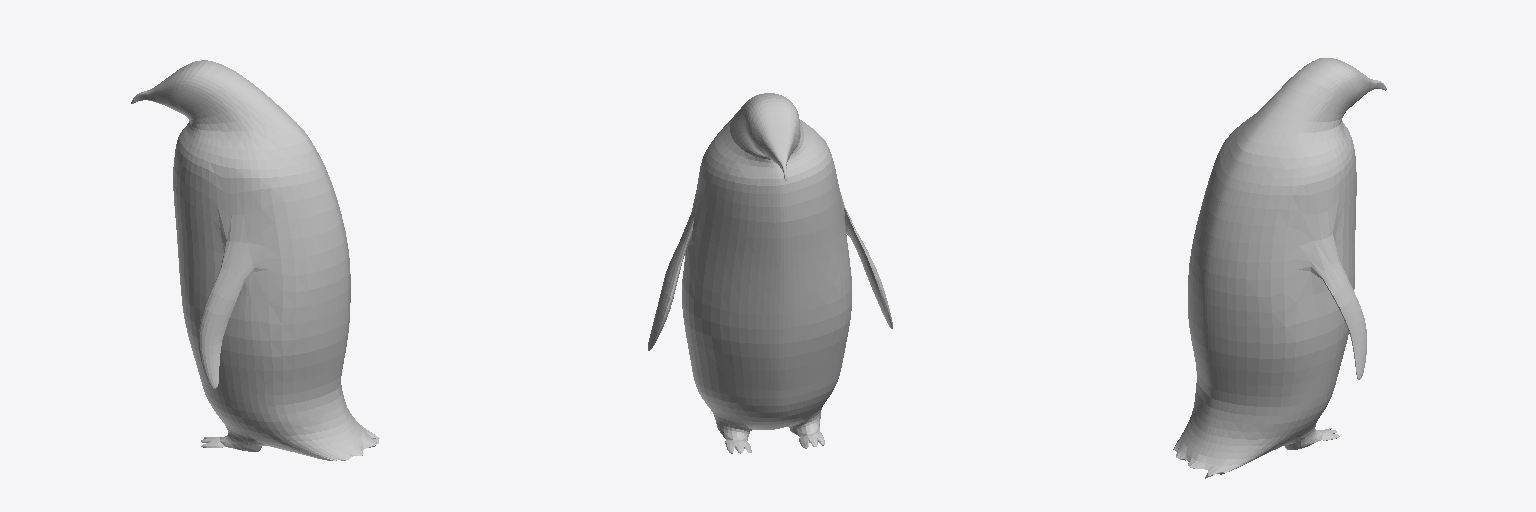
Rendered from penguin6.obj.
The picture shows the model from 3 angles: view 1: azimuth 30°, elevation 25°; view 2: azimuth 150°, elevation 25°; view 3: azimuth 270°, elevation 25°; orthographic projection.
Parts seen in each view (by area): view 1: Penguin_Cylinder.002; view 2: Penguin_Cylinder.002; view 3: Penguin_Cylinder.002.
Boxes of the visible parts, x1,y1,x2,y2 form: Penguin_Cylinder.002: [131, 60, 379, 460]; Penguin_Cylinder.002: [648, 93, 892, 453]; Penguin_Cylinder.002: [1173, 58, 1386, 478].
Bounding box in the file's own units: 103 × 202 × 108.